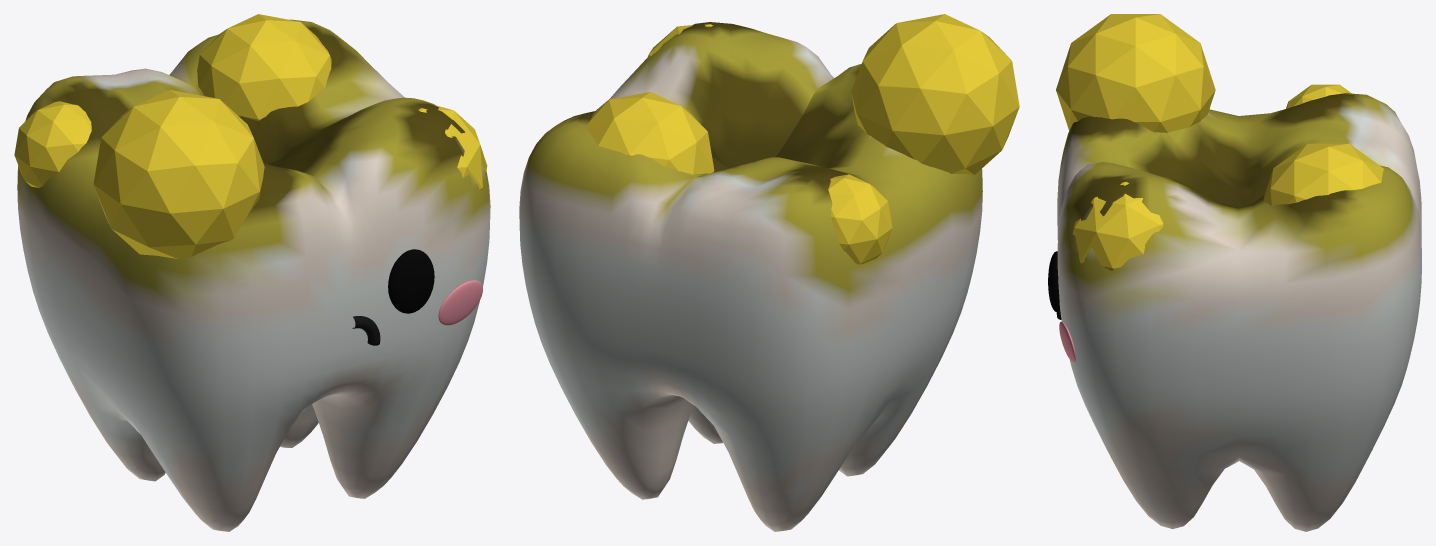
Rendered from gigidemineralisasi.glb.
The picture shows the model from 3 angles, left to right: view 1: azimuth 30°, elevation 25°; view 2: azimuth 150°, elevation 25°; view 3: azimuth 270°, elevation 25°; orthographic projection. The views are drawn at different scales.
Visible parts, largest first — view 1: Cube, Icosphere, Icosphere.001, Icosphere.003, Plane, Icosphere.002, Plane.001; view 2: Cube, Icosphere, Icosphere.001, Icosphere.003; view 3: Cube, Icosphere, Icosphere.001, Icosphere.002, Icosphere.003, Plane.
Part boxes in pixels (x1,y1,x2,y2): Cube: (17,19,490,531); Icosphere: (93,90,264,259); Icosphere.001: (197,14,331,121); Icosphere.003: (14,101,91,187); Plane: (388,249,434,313); Icosphere.002: (418,104,487,190); Plane.001: (438,280,482,325); Cube: (519,22,982,531); Icosphere: (851,14,1019,175); Icosphere.001: (587,92,714,174); Icosphere.003: (828,174,892,264); Cube: (1057,93,1421,531); Icosphere: (1056,14,1215,132); Icosphere.001: (1263,143,1383,205); Icosphere.002: (1072,181,1163,270); Icosphere.003: (1286,84,1351,108); Plane: (1048,251,1059,311).
Bounding box in the file's own units: 2.73 × 3.16 × 2.52.
